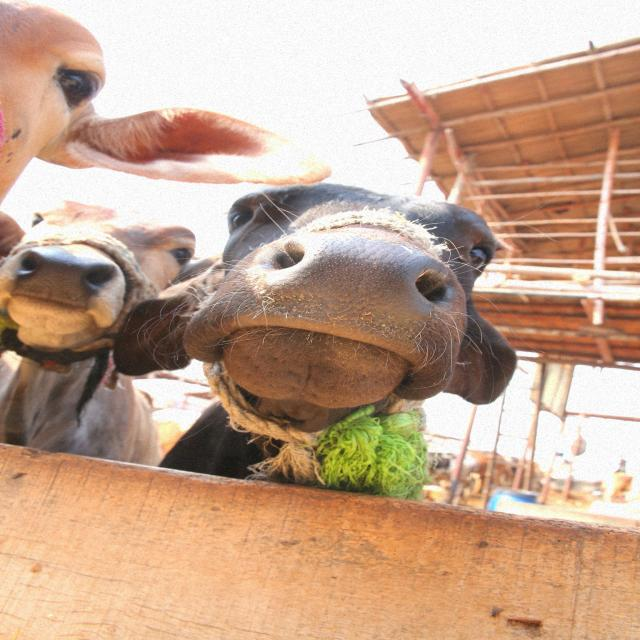muzzles: (257, 224, 461, 364), (11, 244, 117, 312)
